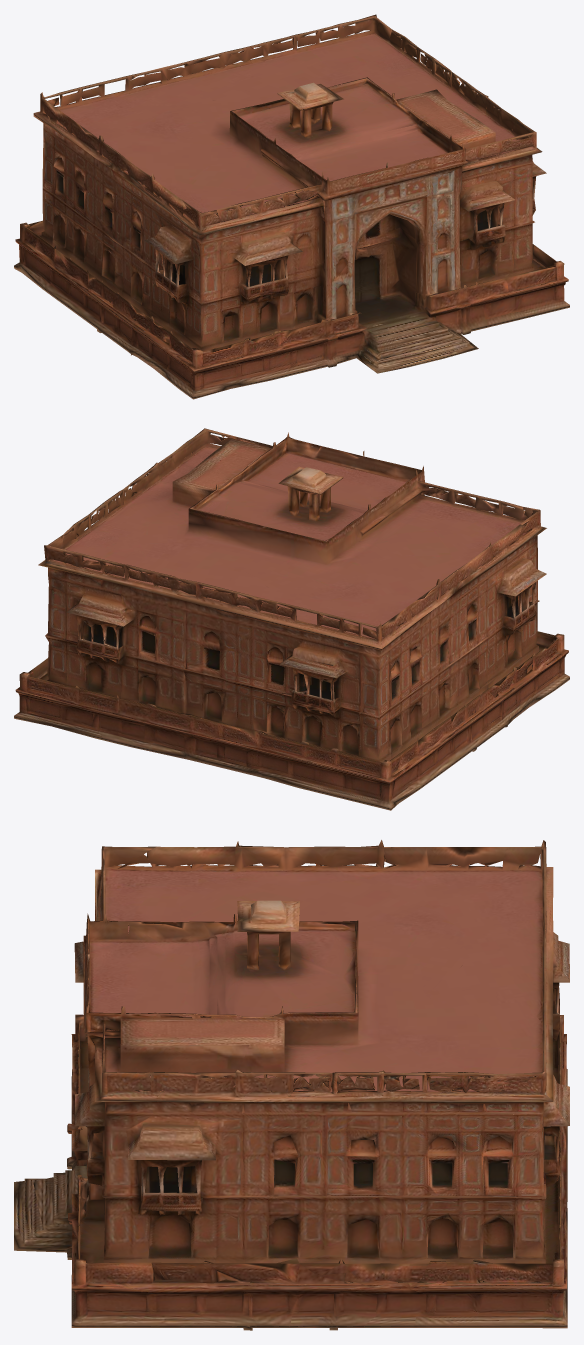
File: lahore-akbari-mahal.glb
3 views of the same model, one above another, from view 1: azimuth 30°, elevation 25°; view 2: azimuth 150°, elevation 25°; view 3: azimuth 270°, elevation 25° (orthographic). The views are drawn at different scales.
Parts seen in each view (by area): view 1: tripo_node_7d907d32-977d-4989-a35e-1e713a9c2fd4; view 2: tripo_node_7d907d32-977d-4989-a35e-1e713a9c2fd4; view 3: tripo_node_7d907d32-977d-4989-a35e-1e713a9c2fd4.
Boxes of the visible parts, box(x1,y1,x2,y2) form: tripo_node_7d907d32-977d-4989-a35e-1e713a9c2fd4: box(14, 14, 569, 399); tripo_node_7d907d32-977d-4989-a35e-1e713a9c2fd4: box(14, 428, 569, 810); tripo_node_7d907d32-977d-4989-a35e-1e713a9c2fd4: box(14, 840, 569, 1330).
Size of the model in its own units: 1 by 0.5468 by 0.9224.
1 material, 1 textured.
